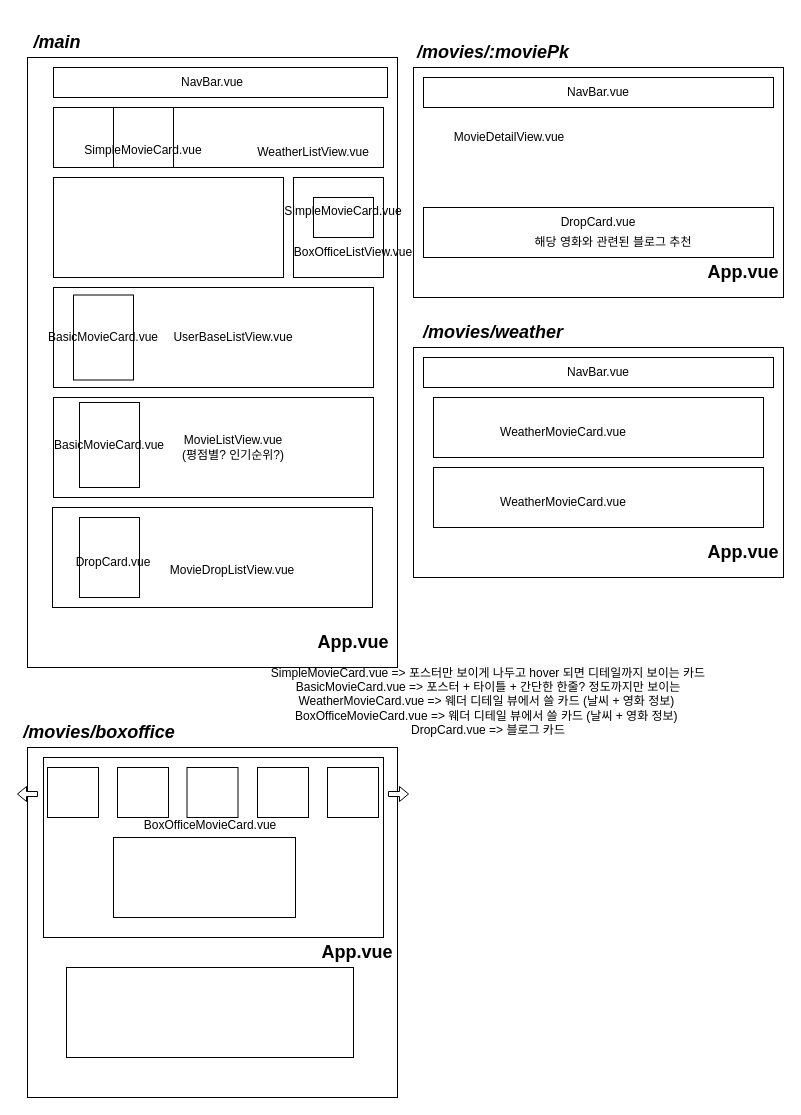
The diagram is 801 pixels wide and 1115 high, and some of its shapes have lost their labels. Each missing label, with the centre of its shape:
"MapDetailView.vue" goes at (x=210, y=1012).
"MapView.vue" goes at (x=168, y=227).
